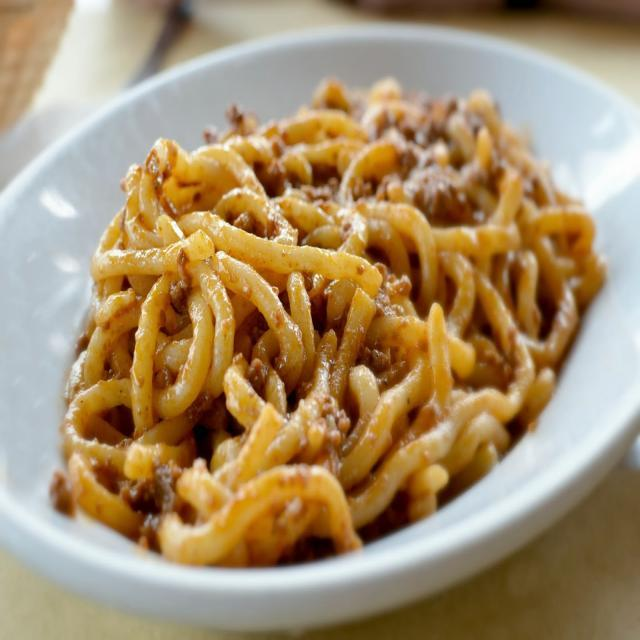Pasta al ragu: (51, 60, 597, 582)
